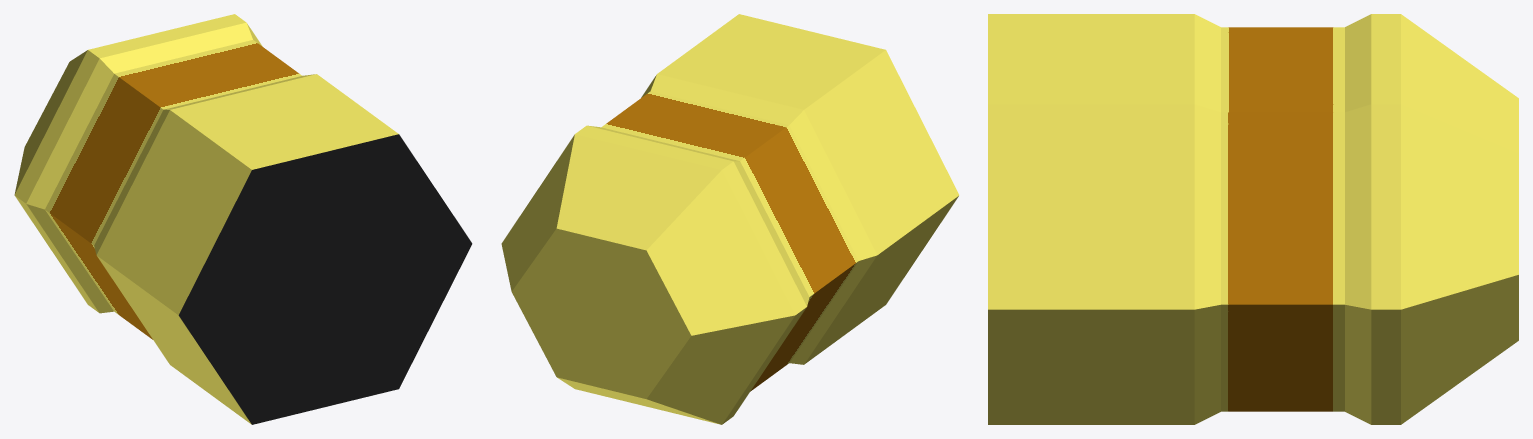
Rendered from Shell.gltf.
The picture shows the model from 3 angles, left to right: view 1: azimuth 30°, elevation 25°; view 2: azimuth 150°, elevation 25°; view 3: azimuth 270°, elevation 25°; orthographic projection. The views are drawn at different scales.
Parts seen in each view (by area): view 1: cylinder; view 2: cylinder; view 3: cylinder.
Part boxes in pixels (x1,y1,x2,y2): cylinder: (14,14,472,424); cylinder: (501,14,959,424); cylinder: (988,14,1518,424).
Bounding box in the file's own units: 0.2262 × 0.1875 × 0.2812.
1 material, 1 textured.
